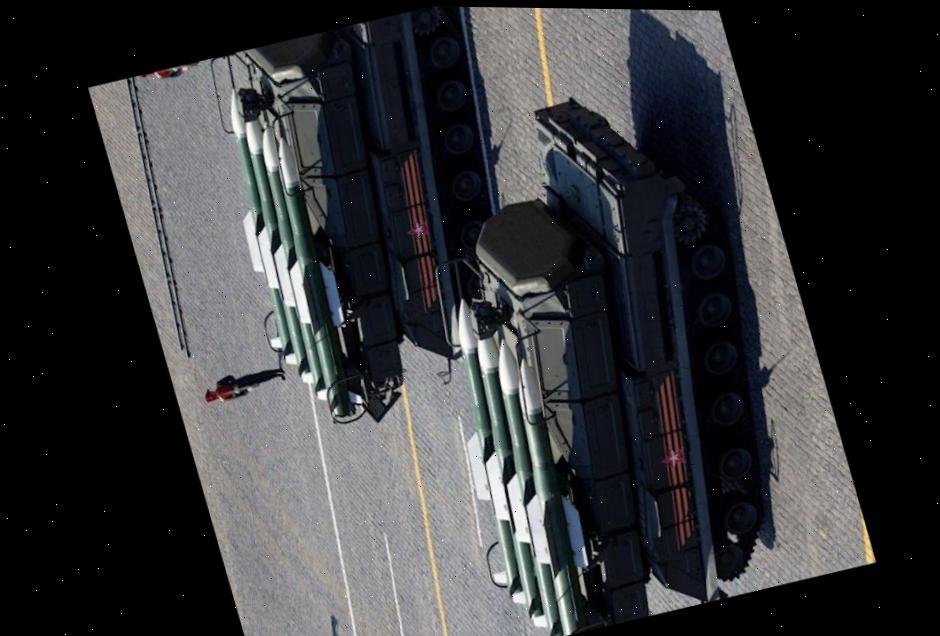armored_car: (362, 65, 824, 636), (160, 2, 555, 453)
